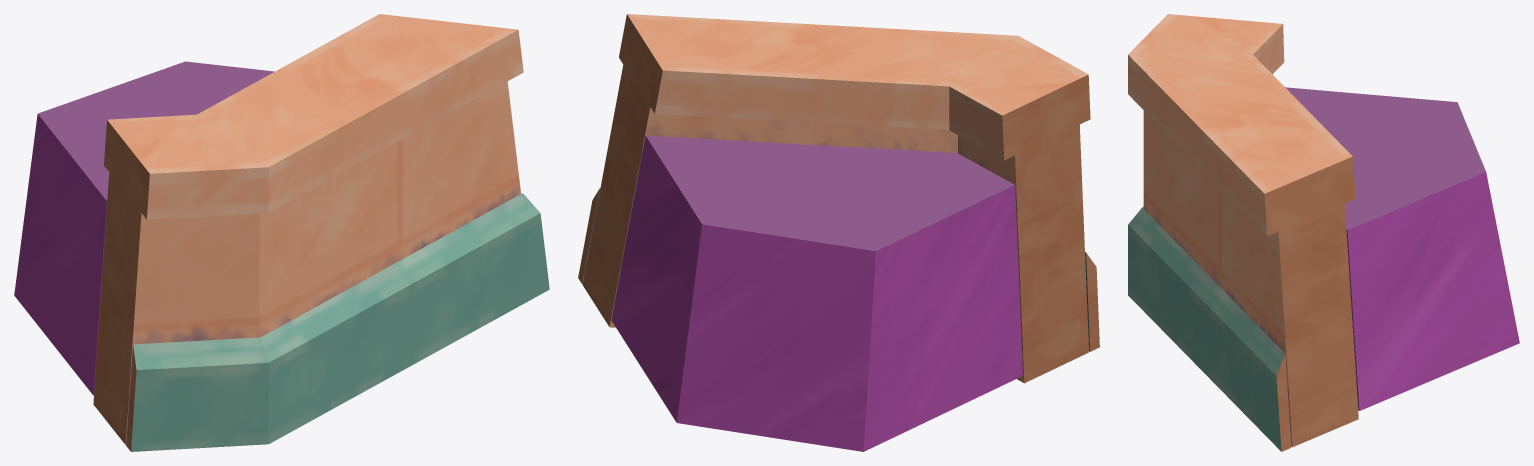
File: vat_plum_s03.fbx
3 views of the same model, side by side, from view 1: azimuth 30°, elevation 25°; view 2: azimuth 150°, elevation 25°; view 3: azimuth 270°, elevation 25° (orthographic). The views are drawn at different scales.
Parts seen in each view (by area): view 1: vat_plum_s03; view 2: vat_plum_s03; view 3: vat_plum_s03.
Part boxes in pixels (x1,y1,x2,y2): vat_plum_s03: (14,14,549,451); vat_plum_s03: (578,14,1099,451); vat_plum_s03: (1128,14,1519,451).
Size of the model in its own units: 3.09 by 1.7 by 2.51.
